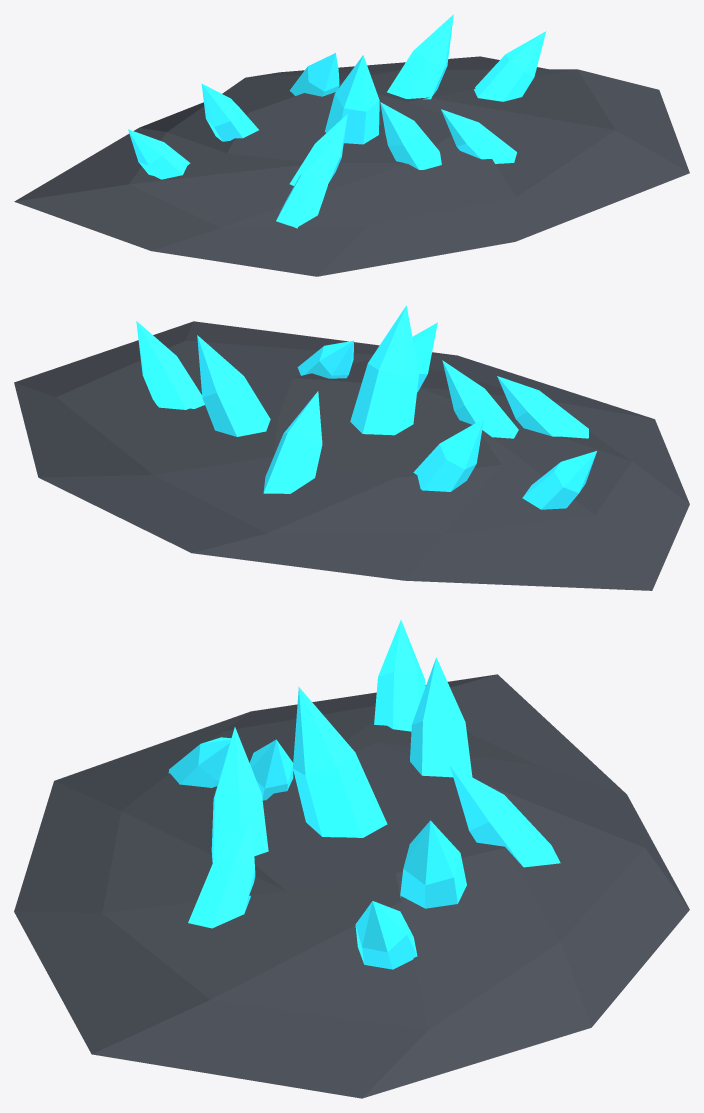
The model's file is PROP_13_CrystalFloorFormation.fbx.
3 views of the same model, one above another, from view 1: azimuth 30°, elevation 25°; view 2: azimuth 150°, elevation 25°; view 3: azimuth 270°, elevation 25° (orthographic). The views are drawn at different scales.
Visible parts, largest first — view 1: PROP_13_CrystalFloorFormation; view 2: PROP_13_CrystalFloorFormation; view 3: PROP_13_CrystalFloorFormation.
Boxes of the visible parts, <box> form: PROP_13_CrystalFloorFormation: <box>14,14,689,276</box>; PROP_13_CrystalFloorFormation: <box>14,305,689,590</box>; PROP_13_CrystalFloorFormation: <box>14,620,689,1098</box>.
Bounding box in the file's own units: 251 × 54.64 × 169.
